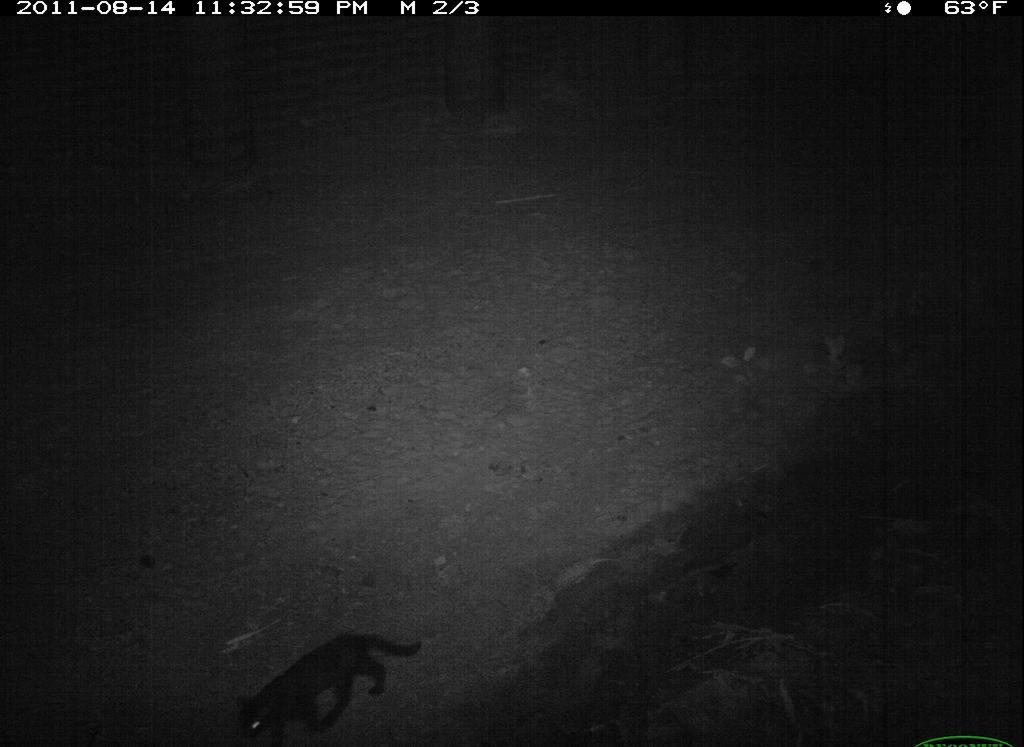cat: (228, 623, 429, 745)
